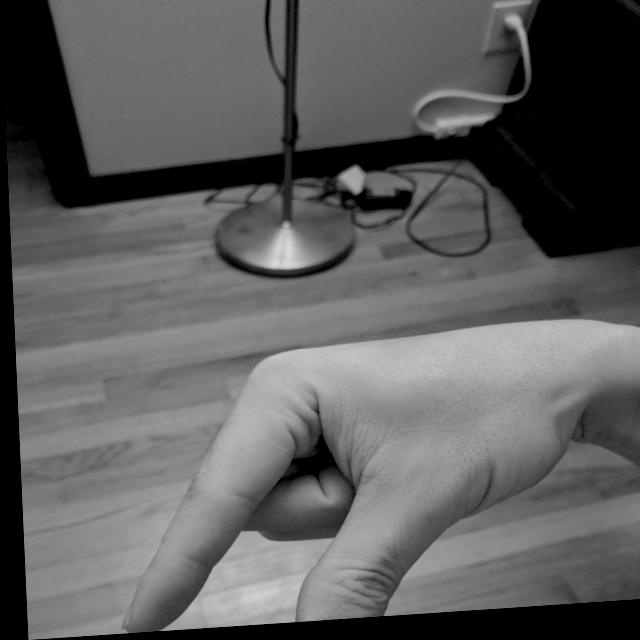Q: (98, 319, 600, 635)
